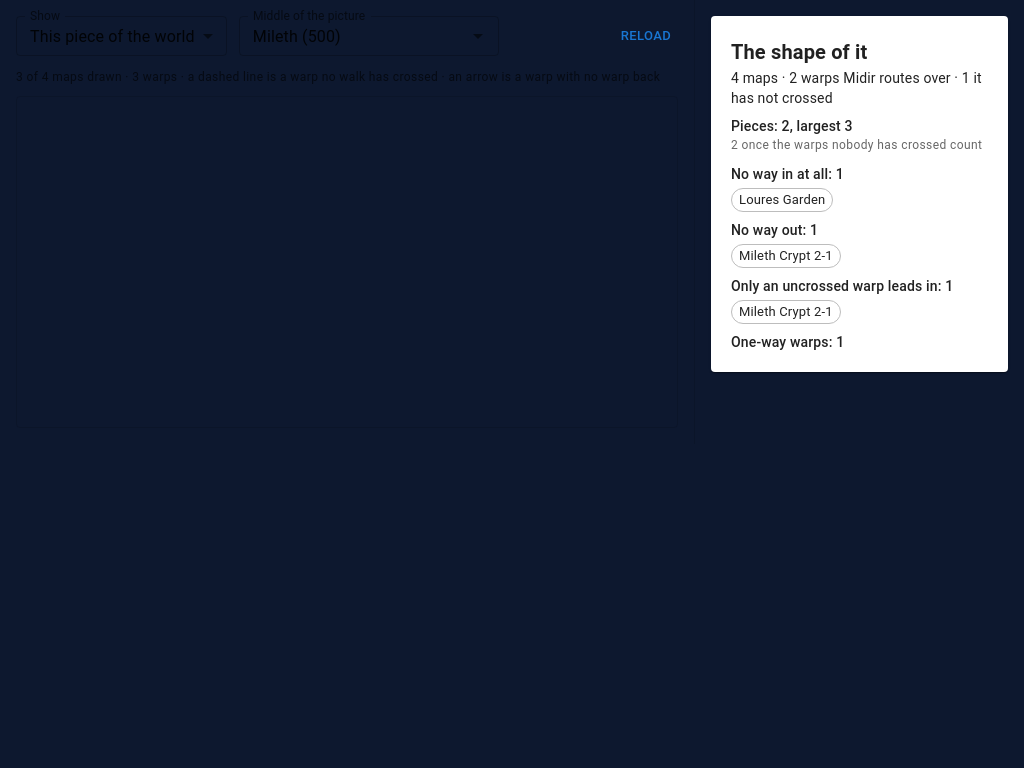
Scenario: the world graph view › selects a map from a report row, and describes it
Expected: the element with test id "graph-report" is shown, [711,16,1008,372]
Click the button "Mileth Crypt 2-1" below "No way out". click: point(786, 256)
box: [731,244,841,268]
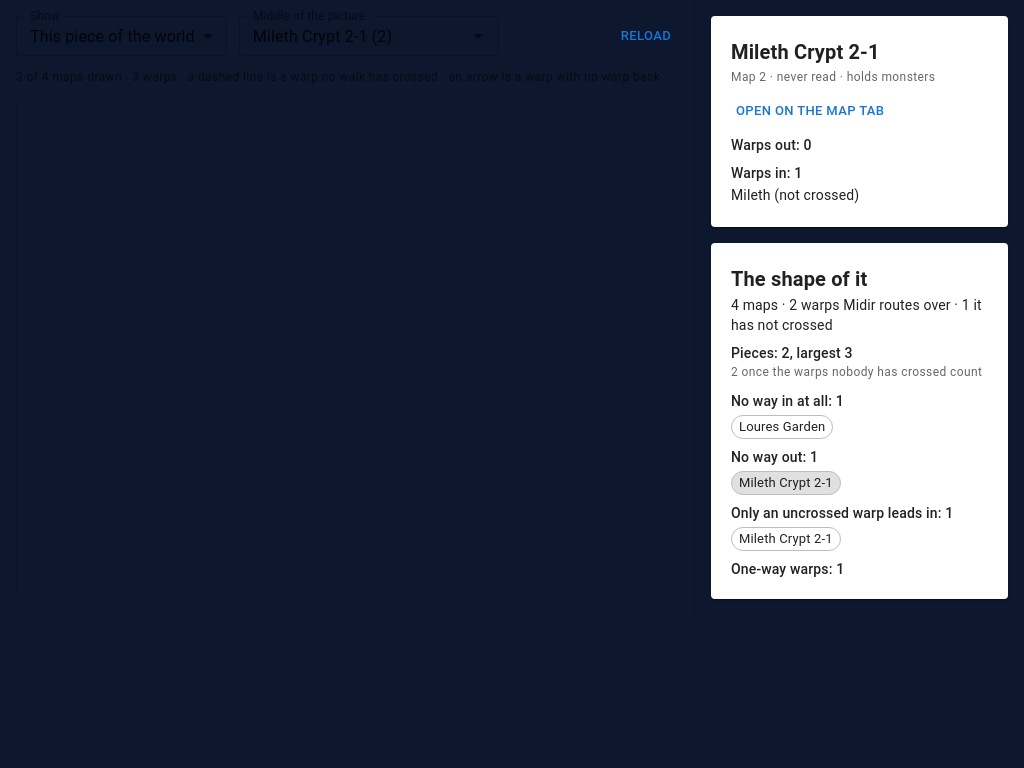
Expected: the heading "Mileth Crypt 2-1" is shown, [731,40,880,64]
Expected: the text "Map 2 · never read · holds monsters" is shown, [731,70,935,84]
Expected: the text "Warps out: 0" is shown, [731,137,812,153]
